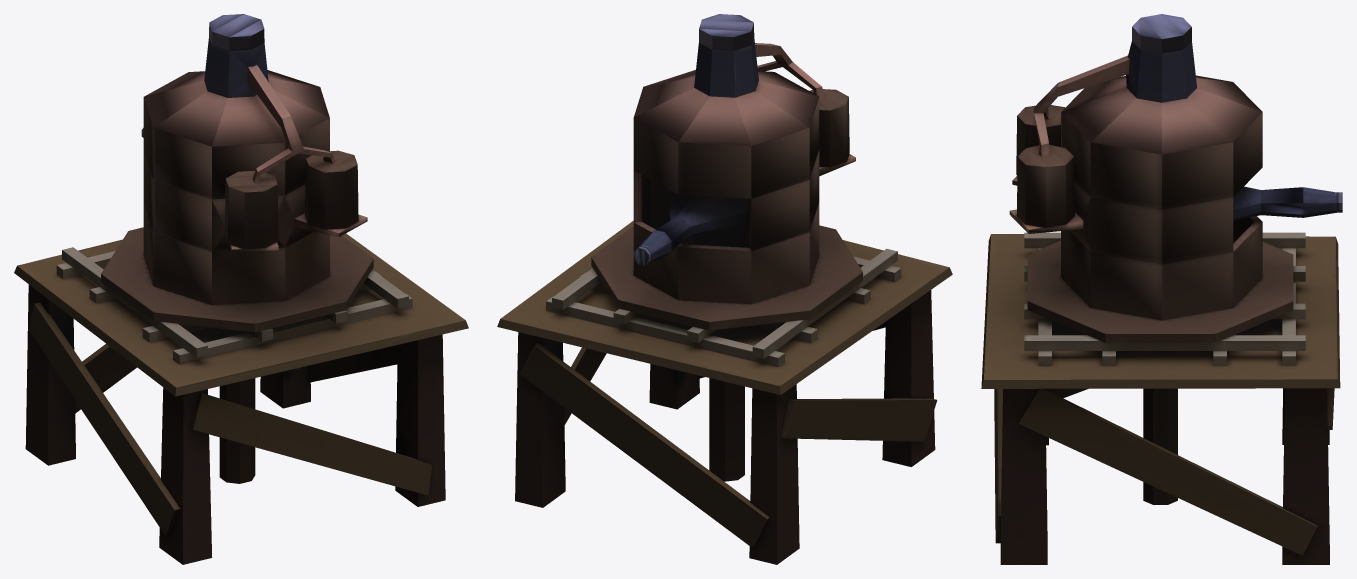
Rendered from tile_flamethrower_lod2.fbx.
3 views of the same model, side by side, from view 1: azimuth 30°, elevation 25°; view 2: azimuth 150°, elevation 25°; view 3: azimuth 270°, elevation 25° (orthographic). The views are drawn at different scales.
Parts seen in each view (by area): view 1: Base_lod2, Flame_Launcher_lod1; view 2: Base_lod2, Flame_Launcher_lod1; view 3: Flame_Launcher_lod1, Base_lod2.
Boxes of the visible parts, x1=… form: Base_lod2: x1=14, y1=233, x2=468, y2=564; Flame_Launcher_lod1: x1=101, y1=14, x2=373, y2=483; Base_lod2: x1=497, y1=220, x2=952, y2=564; Flame_Launcher_lod1: x1=591, y1=14, x2=862, y2=481; Flame_Launcher_lod1: x1=1009, y1=14, x2=1342, y2=504; Base_lod2: x1=981, y1=232, x2=1340, y2=564.
Size of the model in its own units: 0.0327 by 0.0485 by 0.0337.
